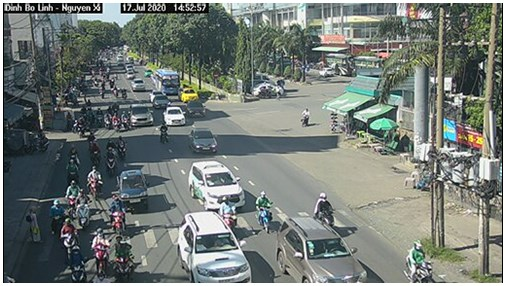di_bo: (25, 204, 40, 245)
xe_buyt: (154, 68, 182, 98)
xe_hoi: (273, 215, 369, 283), (176, 212, 253, 284), (185, 157, 246, 211), (187, 125, 222, 157), (128, 99, 153, 129), (165, 104, 187, 126), (177, 86, 204, 103), (185, 100, 208, 118), (97, 84, 112, 105), (153, 94, 170, 109), (132, 79, 145, 92), (121, 85, 129, 100), (112, 84, 118, 95)
xe_may: (251, 188, 276, 233), (89, 226, 110, 279), (112, 234, 136, 280), (105, 191, 128, 235), (317, 185, 340, 228), (220, 195, 240, 238), (75, 189, 93, 234), (70, 243, 91, 280), (47, 200, 67, 237), (59, 218, 79, 254), (88, 164, 105, 200), (66, 178, 80, 216), (64, 157, 80, 187), (299, 103, 315, 132), (89, 137, 102, 165), (104, 146, 117, 173), (116, 134, 129, 160), (118, 107, 131, 132), (72, 114, 86, 136), (63, 144, 81, 161), (158, 121, 168, 146), (110, 110, 121, 131), (93, 104, 103, 126), (102, 109, 111, 130), (105, 134, 116, 150)
